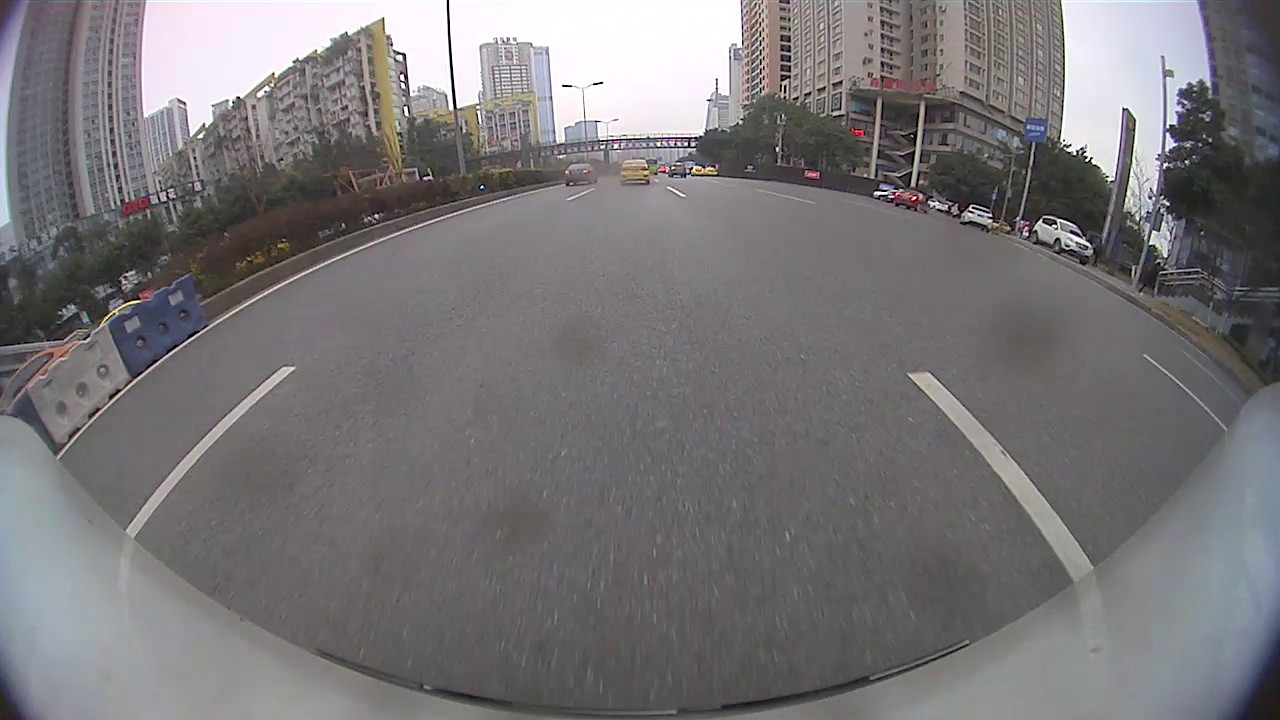car: (1029, 216, 1094, 265), (894, 188, 931, 213), (961, 204, 994, 230), (563, 162, 598, 185), (619, 160, 652, 184), (668, 163, 687, 179)
front: (1050, 239, 1067, 255)
rear: (1029, 231, 1042, 246)
